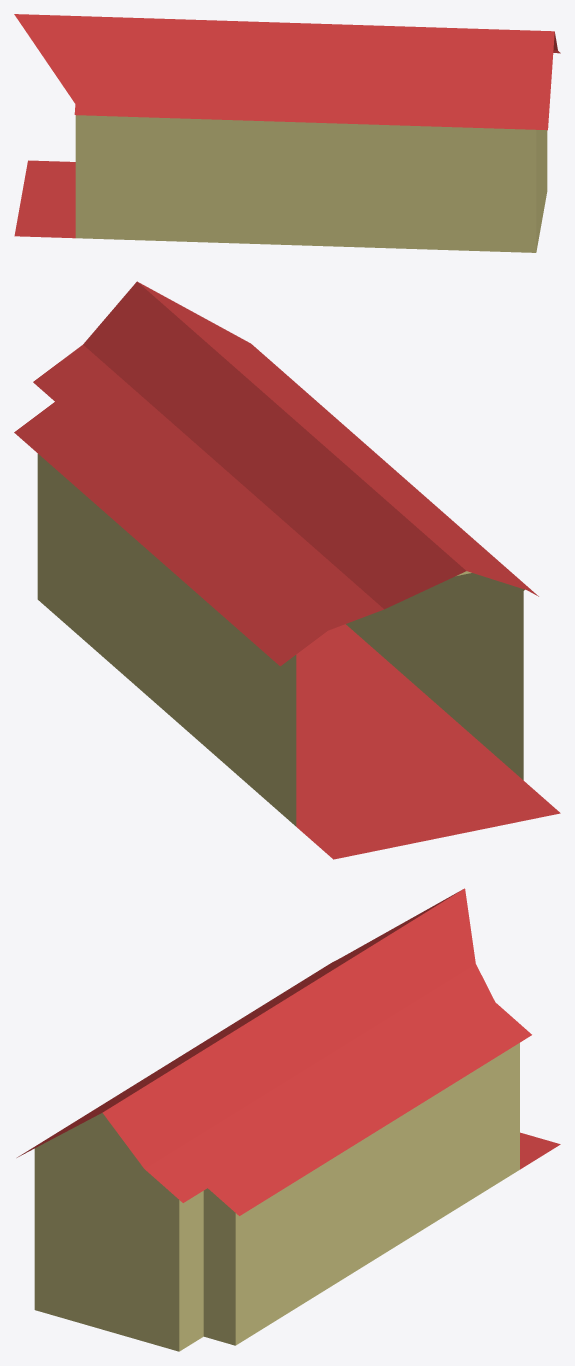
3 views of the same model, one above another, from view 1: azimuth 30°, elevation 25°; view 2: azimuth 150°, elevation 25°; view 3: azimuth 270°, elevation 25° (orthographic). The views are drawn at different scales.
Size of the model in its own units: 31.59 by 27.34 by 12.39.
